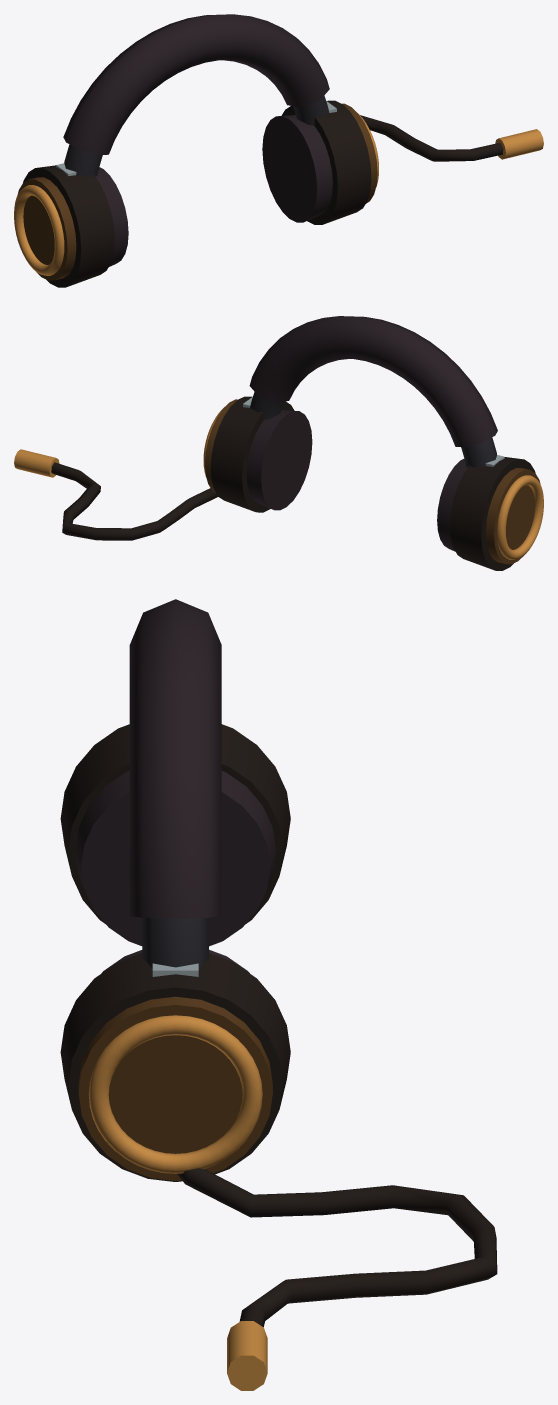
File: mia-headphones.glb
3 renders of one model, top to bottom at view 1: azimuth 30°, elevation 25°; view 2: azimuth 150°, elevation 25°; view 3: azimuth 270°, elevation 25°, orthographic. The views are drawn at different scales.
Parts seen in each view (by area): view 1: Body_leather, Body_black, Body_wood, Body_brass, Body_iron; view 2: Body_leather, Body_black, Body_wood, Body_brass, Body_iron; view 3: Body_leather, Body_black, Body_wood, Body_brass, Body_iron.
Part boxes in pixels (left/top/right/bottom): Body_leather: left=63, top=14, right=332, bottom=266; Body_black: left=23, top=100, right=503, bottom=287; Body_wood: left=17, top=103, right=377, bottom=280; Body_brass: left=14, top=114, right=543, bottom=275; Body_iron: left=64, top=95, right=329, bottom=176; Body_leather: left=246, top=316, right=497, bottom=551; Body_black: left=51, top=396, right=535, bottom=570; Body_wood: left=205, top=399, right=540, bottom=564; Body_brass: left=14, top=409, right=543, bottom=559; Body_iron: left=250, top=392, right=496, bottom=467; Body_leather: left=75, top=599, right=276, bottom=973; Body_black: left=60, top=724, right=497, bottom=1327; Body_wood: left=78, top=996, right=272, bottom=1180; Body_brass: left=88, top=1015, right=267, bottom=1390; Body_iron: left=142, top=918, right=208, bottom=968.
Size of the model in its own units: 0.4399 by 0.1876 by 0.1707.
